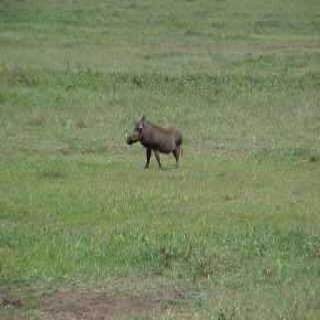Pig: (123, 109, 196, 173)
